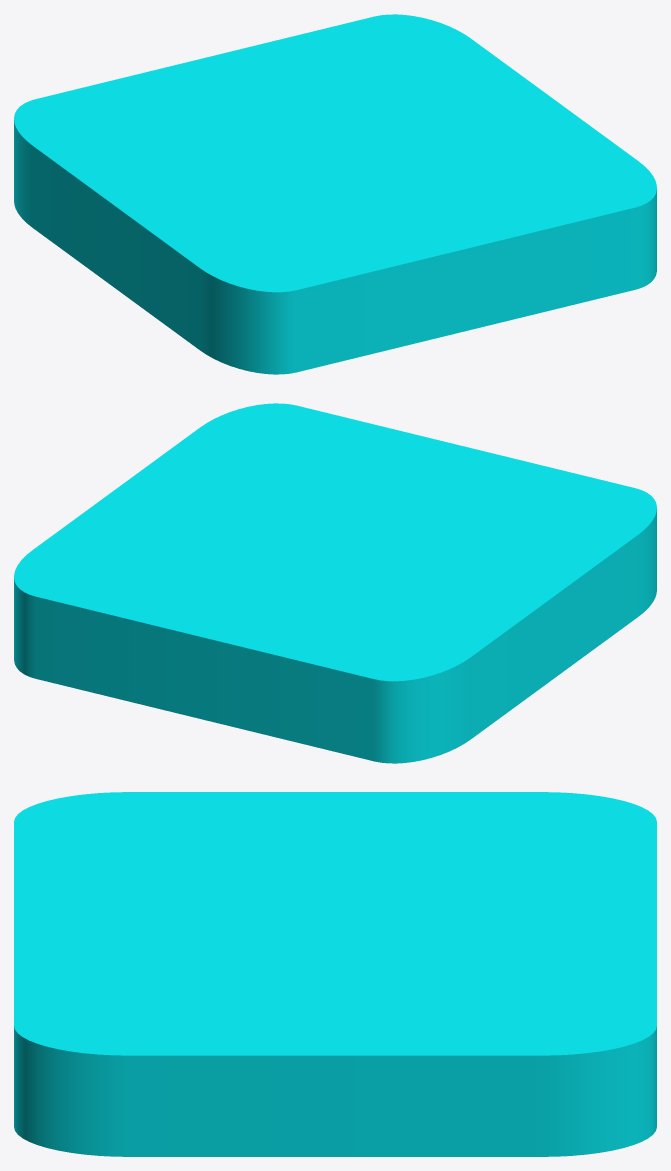
File: original-97.obj
3 views of the same model, one above another, from view 1: azimuth 30°, elevation 25°; view 2: azimuth 150°, elevation 25°; view 3: azimuth 270°, elevation 25° (orthographic). The views are drawn at different scales.
Parts seen in each view (by area): view 1: mesh94/mesh94-geometry#mesh94-geometry; view 2: mesh94/mesh94-geometry#mesh94-geometry; view 3: mesh94/mesh94-geometry#mesh94-geometry.
Boxes of the visible parts, box(x1,y1,x2,y2) form: mesh94/mesh94-geometry#mesh94-geometry: box(14, 14, 656, 374); mesh94/mesh94-geometry#mesh94-geometry: box(14, 403, 656, 763); mesh94/mesh94-geometry#mesh94-geometry: box(14, 792, 656, 1156).
Bounding box in the file's own units: 0.0623 × 0.0112 × 0.0642.
